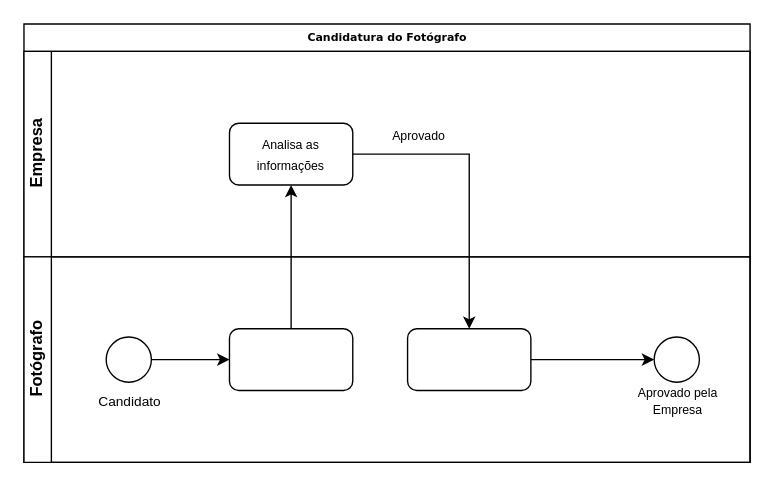
The diagram is 774 pixels wide and 486 high, and some of its shapes have lost their labels. The box of each missing label's shape, as (x1, y1, x2, y2) in pixels:
Prepara portifólio e informações dos equipamentos: (228, 327, 353, 390)
Recebe instruções de como funciona: (406, 327, 531, 390)
